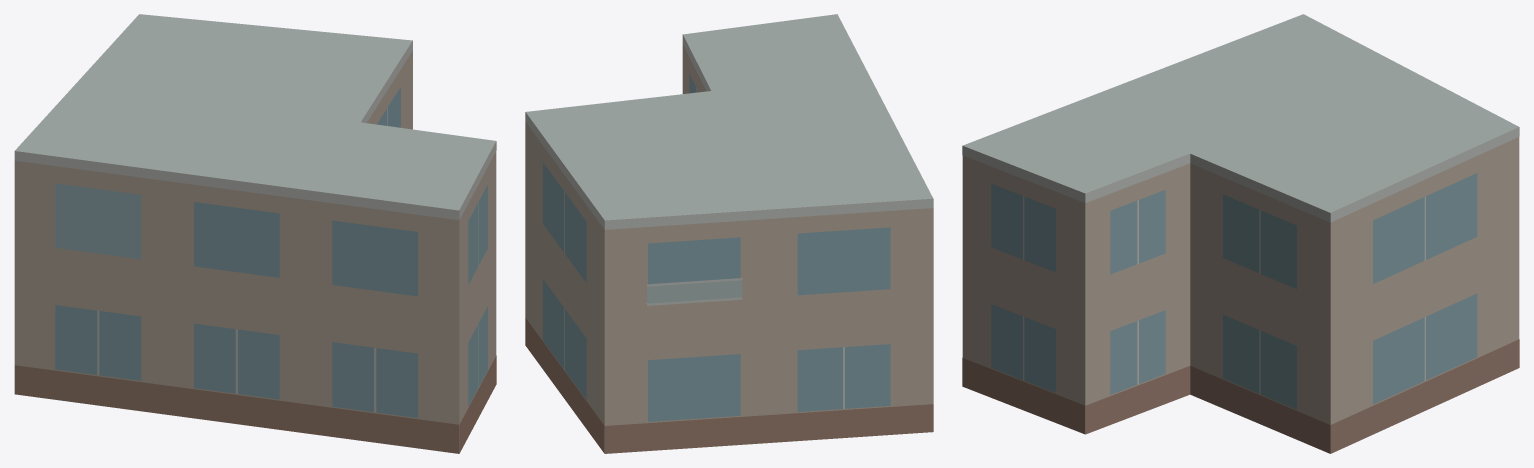
File: survey-upis-32758832.glb
3 renders of one model, left to right at view 1: azimuth 30°, elevation 25°; view 2: azimuth 150°, elevation 25°; view 3: azimuth 270°, elevation 25°, orthographic. The views are drawn at different scales.
Parts seen in each view (by area): view 1: survey-upis-32758832.tmp; view 2: survey-upis-32758832.tmp; view 3: survey-upis-32758832.tmp.
Boxes of the visible parts, left/top/right/bottom form: survey-upis-32758832.tmp: left=14, top=14, right=496, bottom=453; survey-upis-32758832.tmp: left=525, top=14, right=933, bottom=453; survey-upis-32758832.tmp: left=962, top=14, right=1519, bottom=453.
Bounding box in the file's own units: 10.82 × 6.1 × 12.79.
